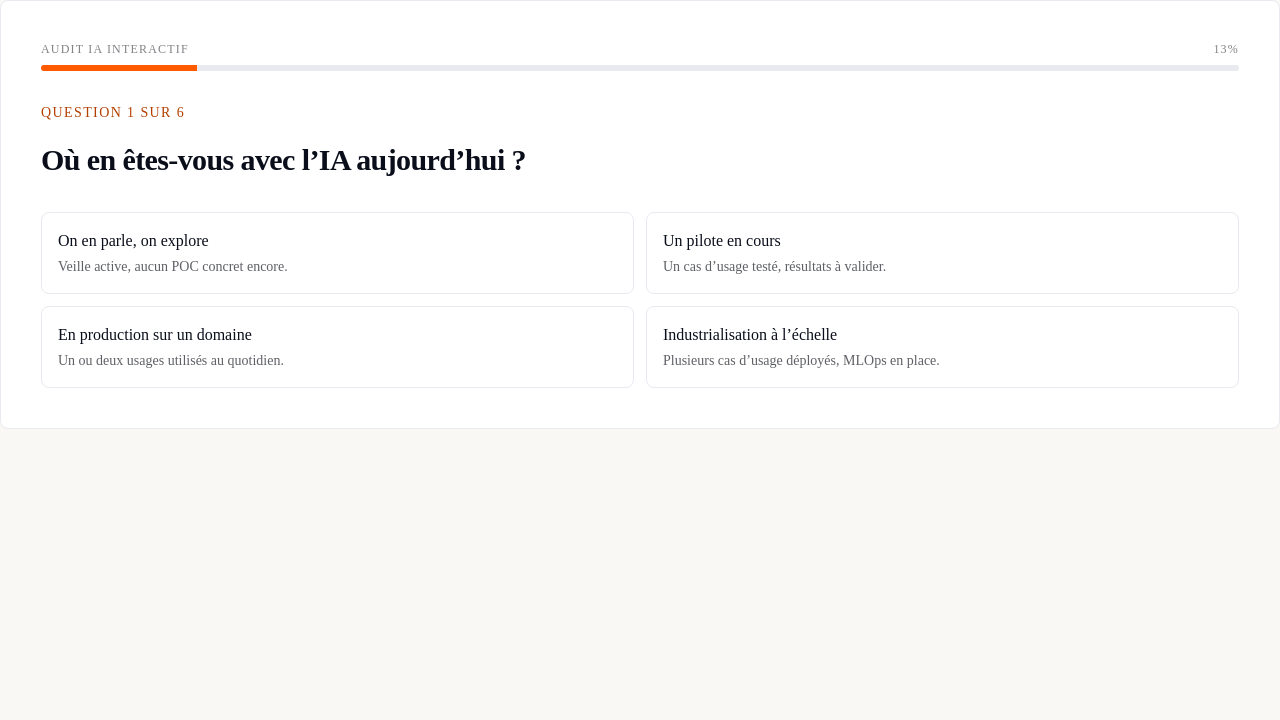
Test: AuditIaQuizWizard › après les 5 questions puis la 6e étape passée, affiche la recommandation contextuelle
The image size is (1280, 720).
Click the text "On en parle, on explore" at (133,241), box [58,229,209,253]
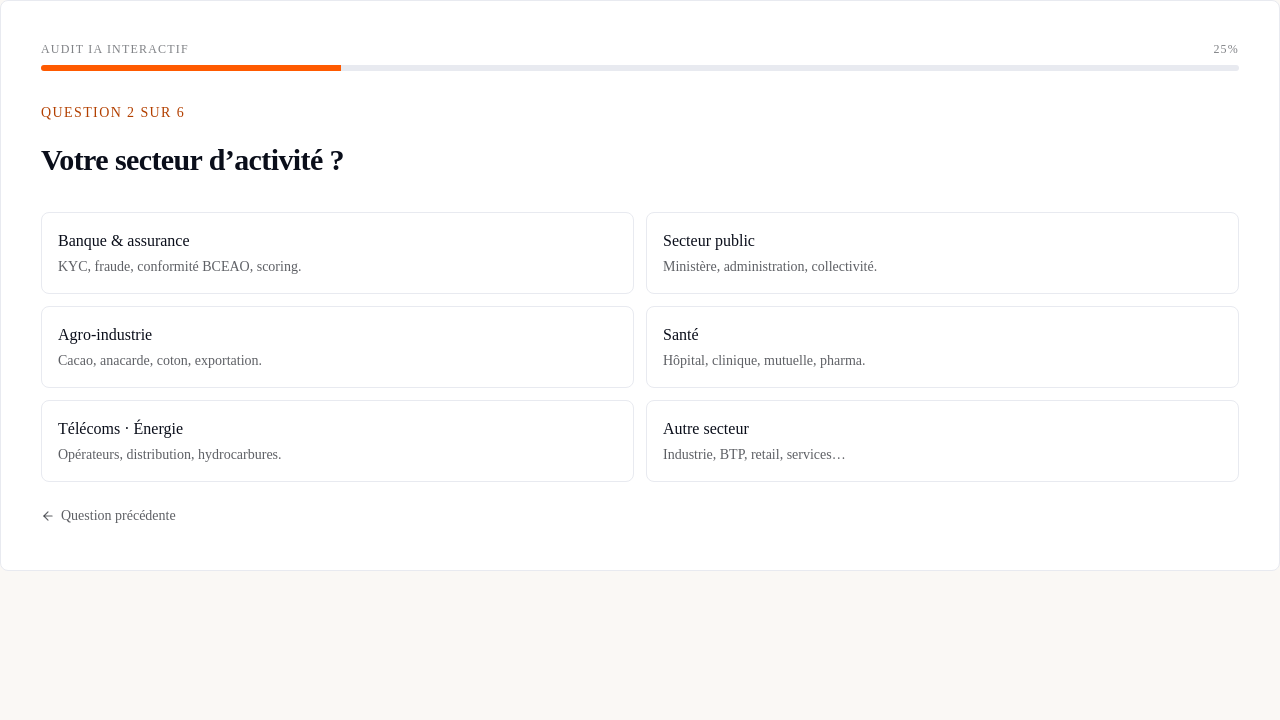
Click the text "Banque & assurance" at (124,241), box [58,229,190,253]
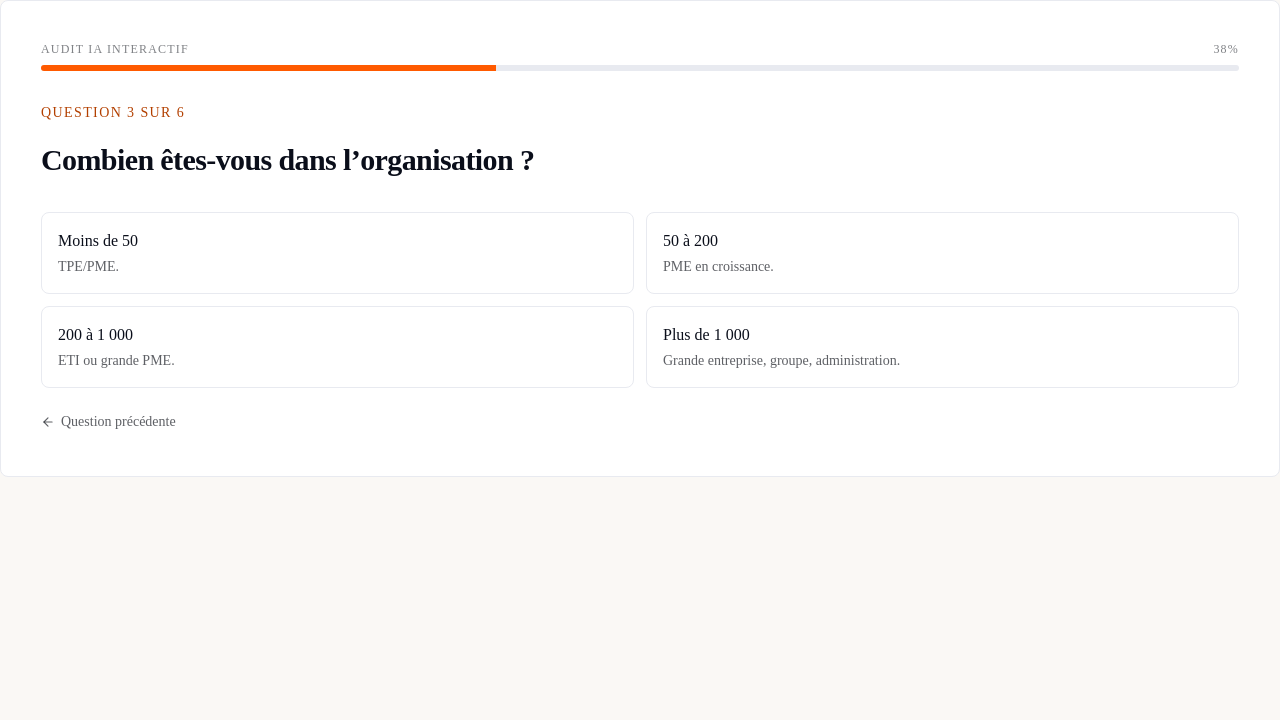
Click the text "Moins de 50" at (98,241), box [58,229,138,253]
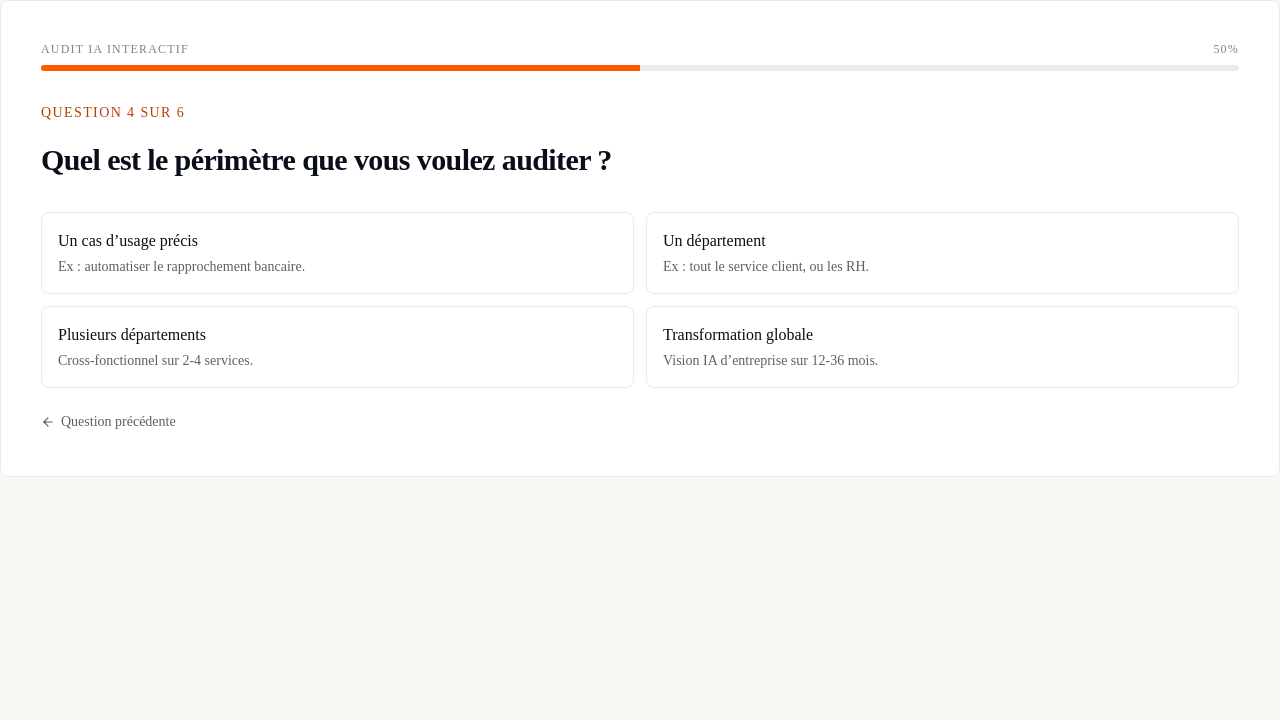
Click the text "Un cas d’usage précis" at (128,241), box [58,229,198,253]
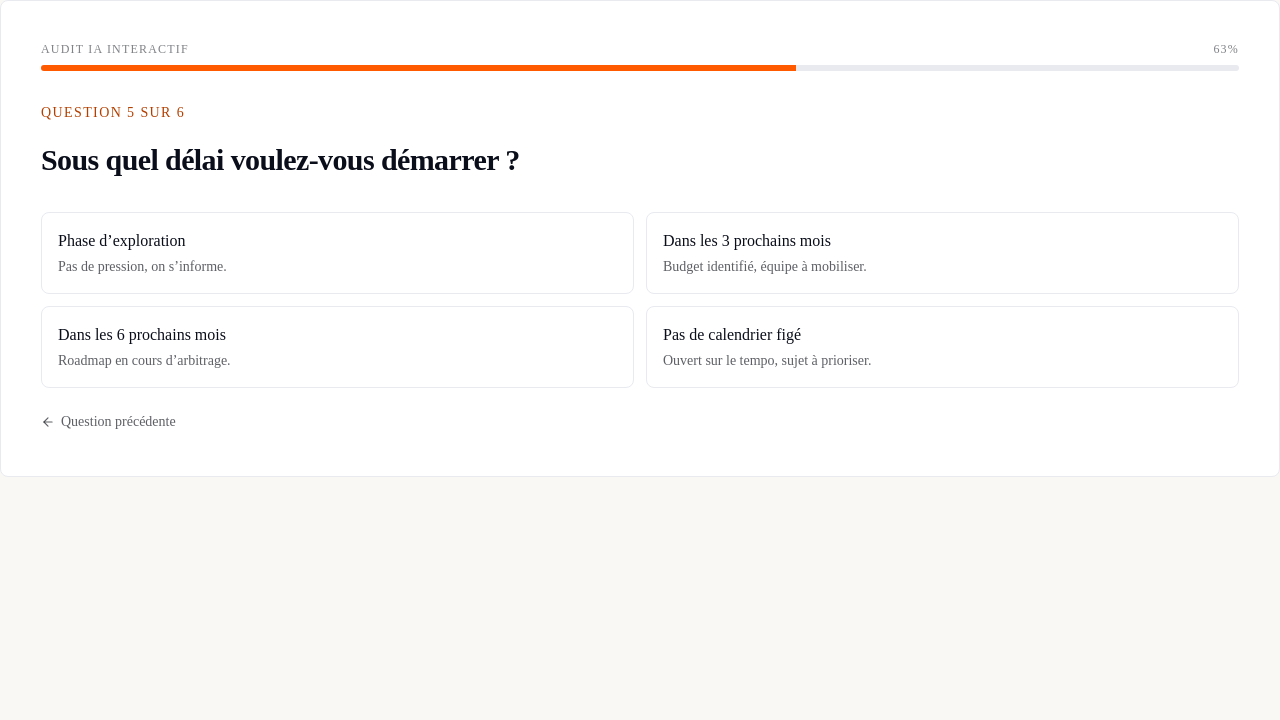
Click the text "Phase d’exploration" at (122,241), box [58,229,186,253]
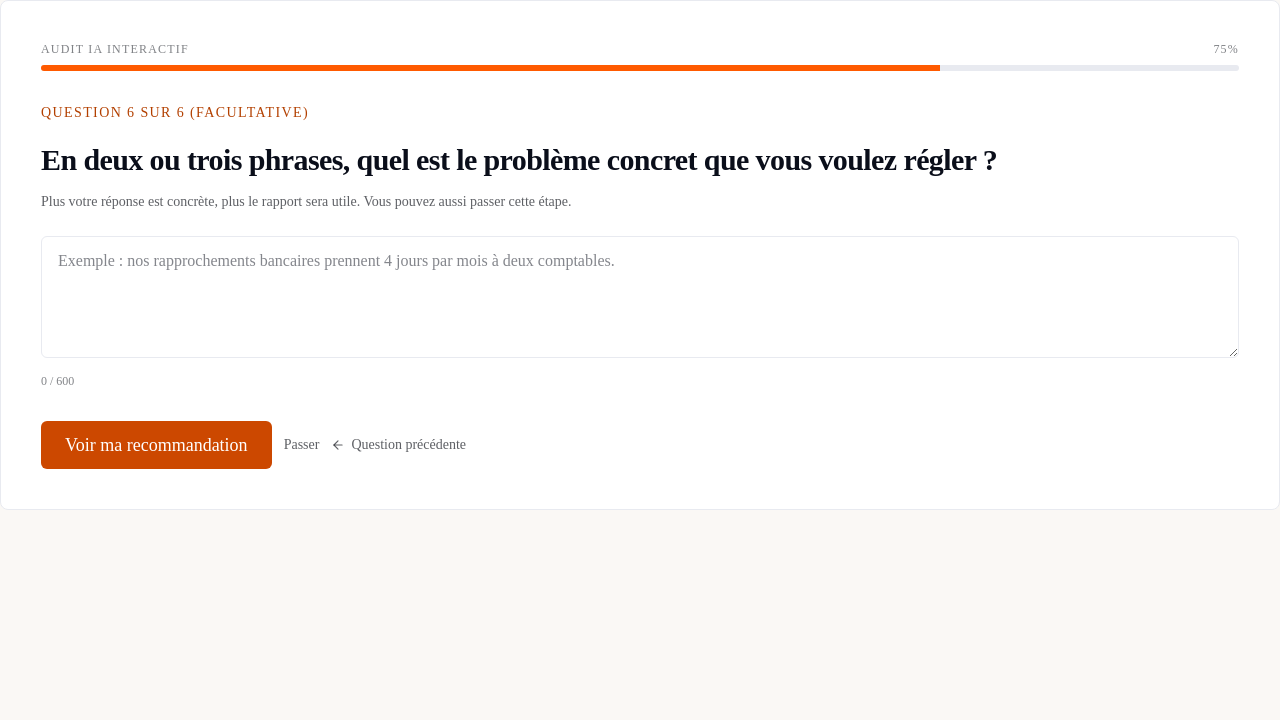
Click the button "Passer" at (302,445), box [284,435,319,455]
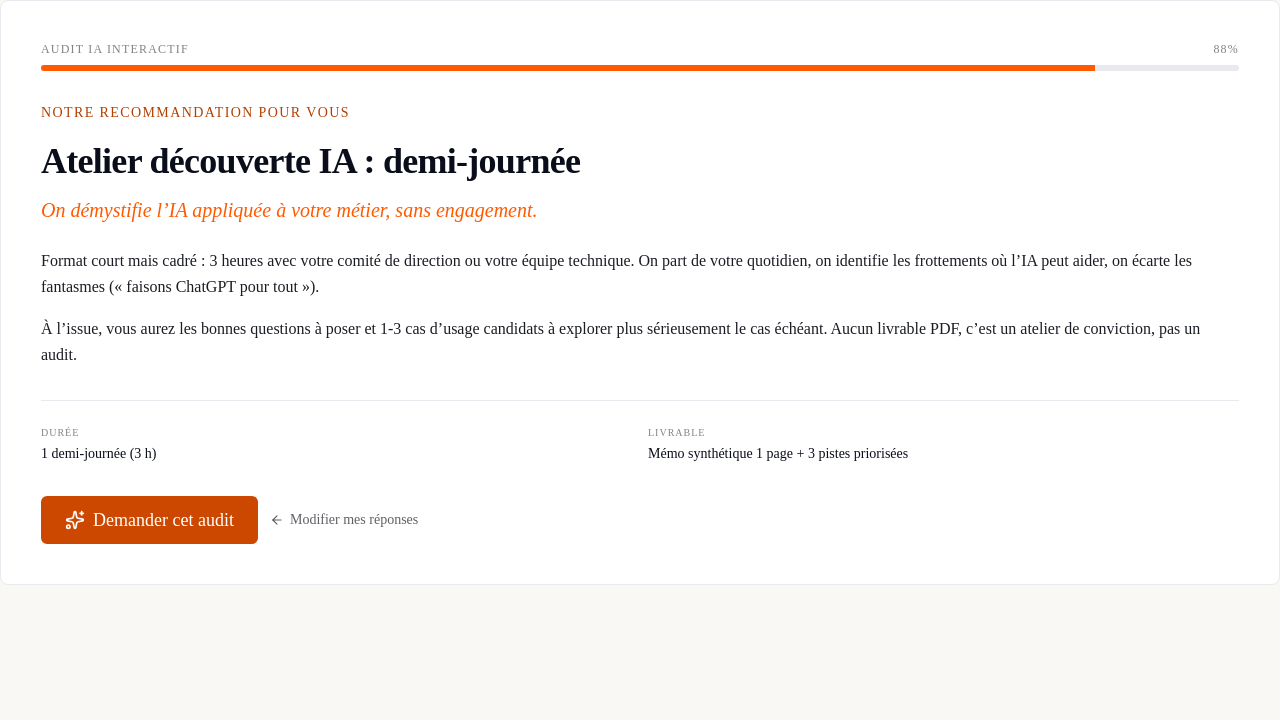
Now the element with test id "audit-ia-recommendation" is shown, box [41,103,1239,544]
Now the heading shows "Atelier", box [41,141,580,181]
